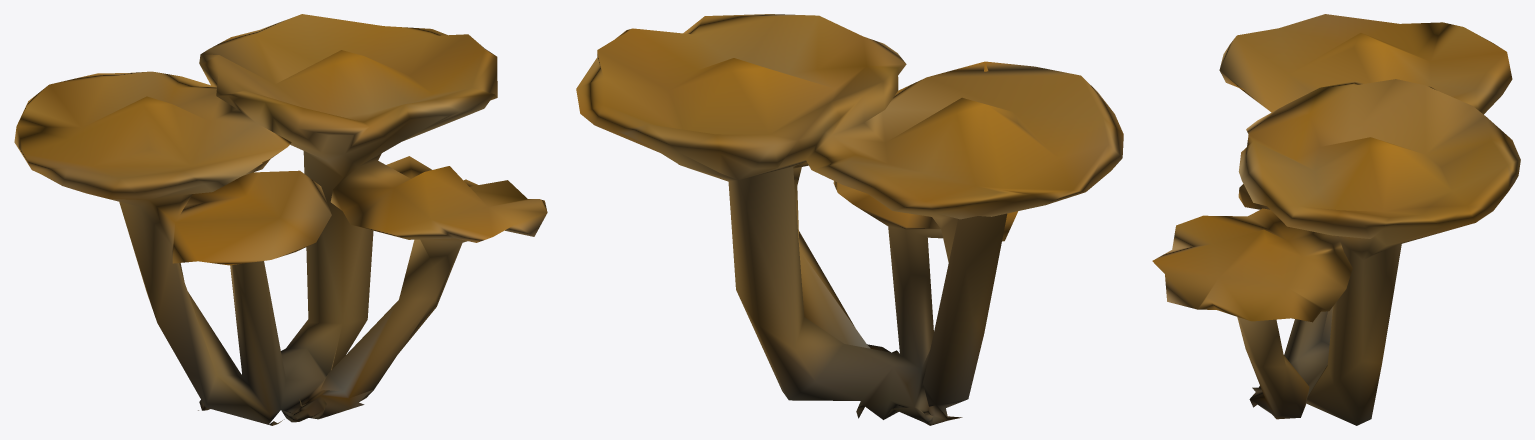
Rendered from mushroom_pfifferling.glb.
3 views of the same model, side by side, from view 1: azimuth 30°, elevation 25°; view 2: azimuth 150°, elevation 25°; view 3: azimuth 270°, elevation 25° (orthographic). The views are drawn at different scales.
Parts seen in each view (by area): view 1: mushroom_pfifferling_0; view 2: mushroom_pfifferling_0; view 3: mushroom_pfifferling_0.
Boxes of the visible parts, x1,y1,x2,y2 form: mushroom_pfifferling_0: (14, 14, 547, 425); mushroom_pfifferling_0: (576, 14, 1123, 425); mushroom_pfifferling_0: (1152, 14, 1520, 425).
Bounding box in the file's own units: 0.5488 × 0.3589 × 0.3952.
